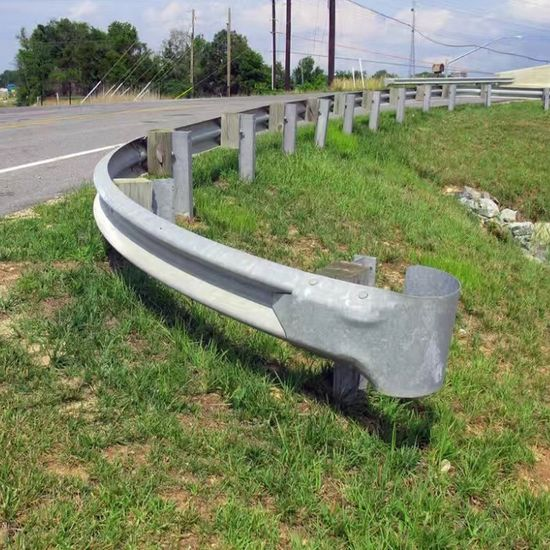not_damaged: (129, 72, 544, 184)
